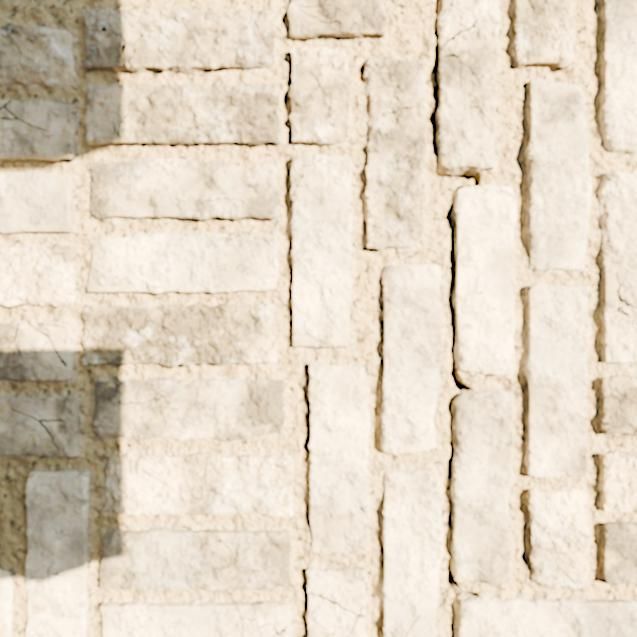crack: (430, 0, 636, 636), (82, 5, 275, 74), (524, 284, 591, 477), (524, 78, 591, 270), (85, 81, 279, 146), (104, 452, 295, 518), (363, 54, 427, 250), (82, 303, 277, 367), (93, 376, 284, 441), (98, 528, 290, 591), (380, 264, 443, 454), (290, 154, 351, 347), (89, 158, 278, 220), (87, 232, 278, 293), (308, 363, 369, 553), (25, 470, 89, 636), (382, 468, 443, 636), (598, 170, 636, 363), (100, 601, 292, 636), (526, 488, 591, 589), (289, 46, 349, 145), (599, 0, 636, 153), (0, 23, 75, 87), (0, 243, 76, 306), (0, 100, 78, 161), (0, 396, 79, 456), (0, 172, 73, 233), (0, 321, 75, 380), (305, 565, 366, 636), (512, 0, 575, 68), (287, 0, 386, 39), (600, 520, 636, 586), (597, 375, 636, 435), (599, 450, 636, 512), (0, 570, 12, 636)
